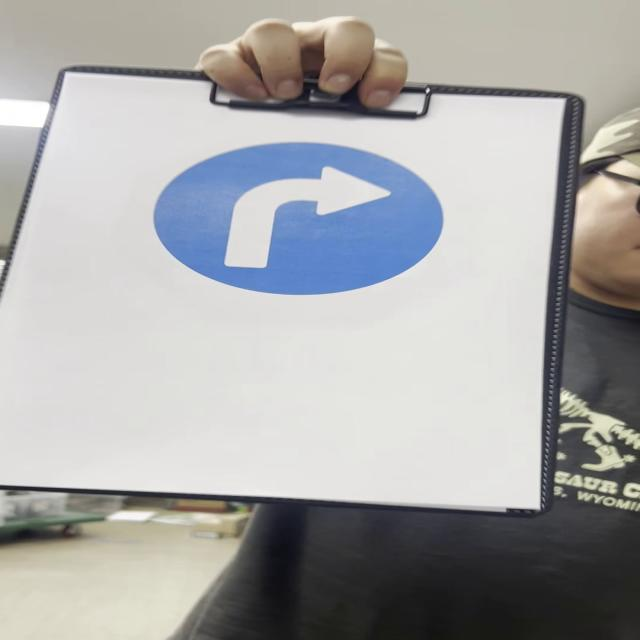right: (151, 141, 450, 298)
